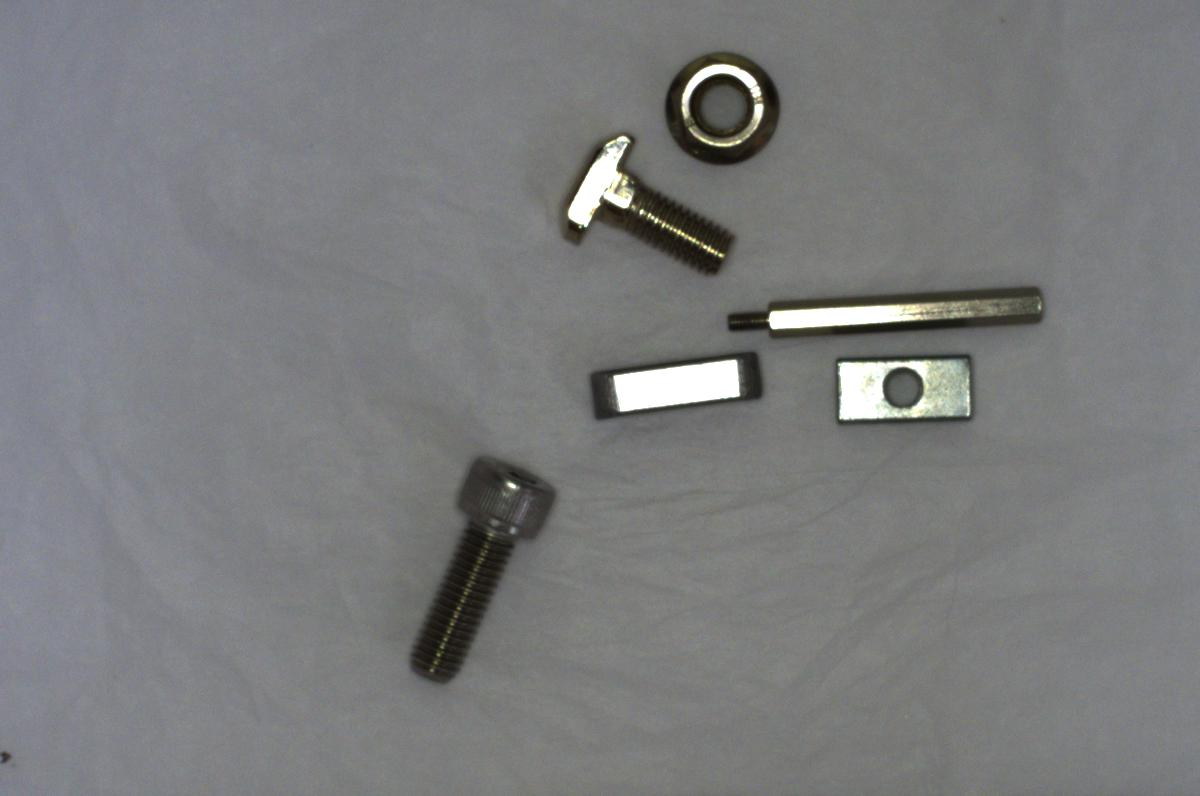Flange nut: (655, 48, 806, 173)
Hexagon screw: (401, 446, 561, 692)
Hexagonal steel column: (724, 267, 1052, 345)
Keybar: (570, 340, 775, 431)
Rectangular nut: (821, 344, 989, 435)
T-shaped screw: (557, 123, 750, 278)
